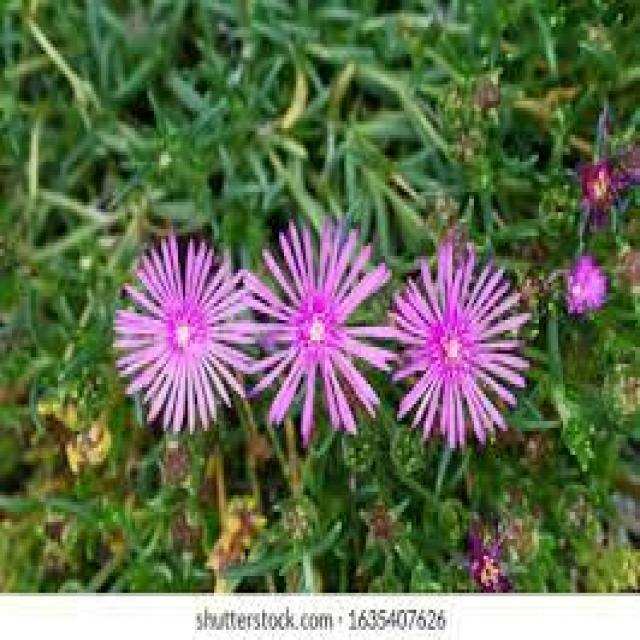organic waste: (248, 219, 409, 441), (384, 246, 535, 448), (119, 243, 256, 431)
